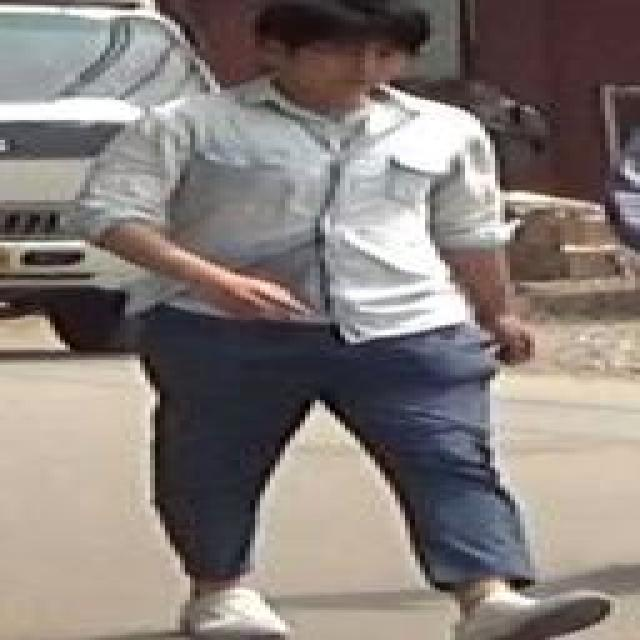adult: (79, 0, 588, 640)
